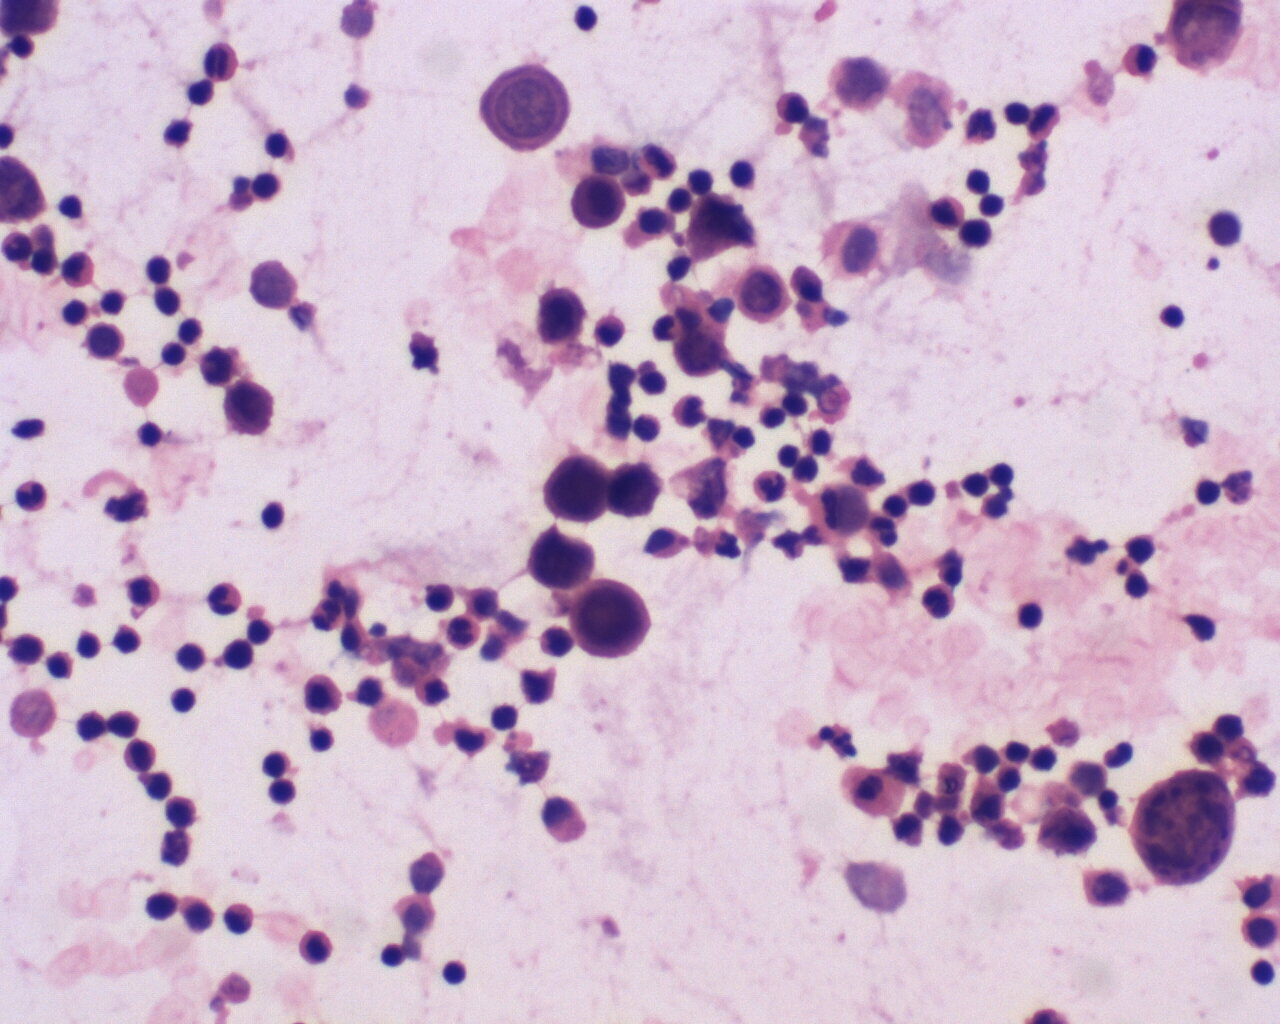ab: (478, 59, 571, 157), (567, 580, 656, 664), (521, 523, 601, 597), (539, 452, 613, 527), (735, 263, 792, 324), (671, 327, 728, 385), (571, 173, 628, 231), (224, 380, 278, 437), (536, 287, 588, 345)
lymph: (1154, 295, 1194, 338), (170, 639, 213, 679), (488, 696, 525, 740), (435, 952, 473, 993), (565, 3, 606, 40), (724, 157, 763, 194), (141, 252, 182, 287), (258, 126, 297, 163), (251, 498, 288, 535), (75, 708, 108, 749), (1193, 472, 1226, 512), (1242, 956, 1278, 992), (162, 681, 199, 716), (959, 162, 996, 196), (957, 467, 993, 502), (258, 748, 297, 779), (72, 627, 104, 661), (1018, 599, 1045, 631)
meso: (838, 765, 912, 820)
neutro: (444, 612, 486, 655), (920, 581, 959, 623), (1124, 41, 1161, 82), (206, 579, 243, 618), (11, 476, 47, 517), (751, 468, 790, 505)
